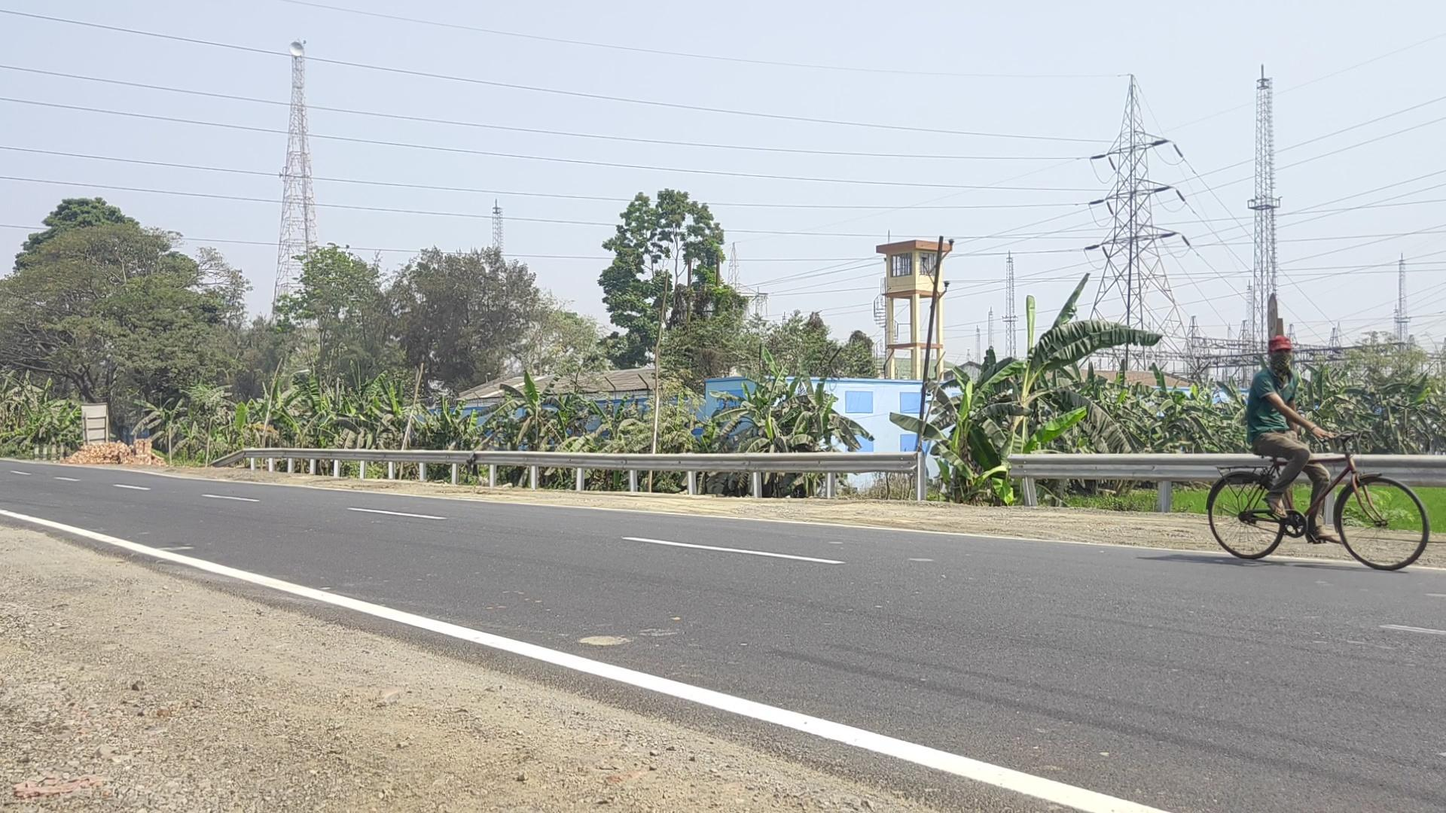bike: (1205, 335, 1430, 571)
